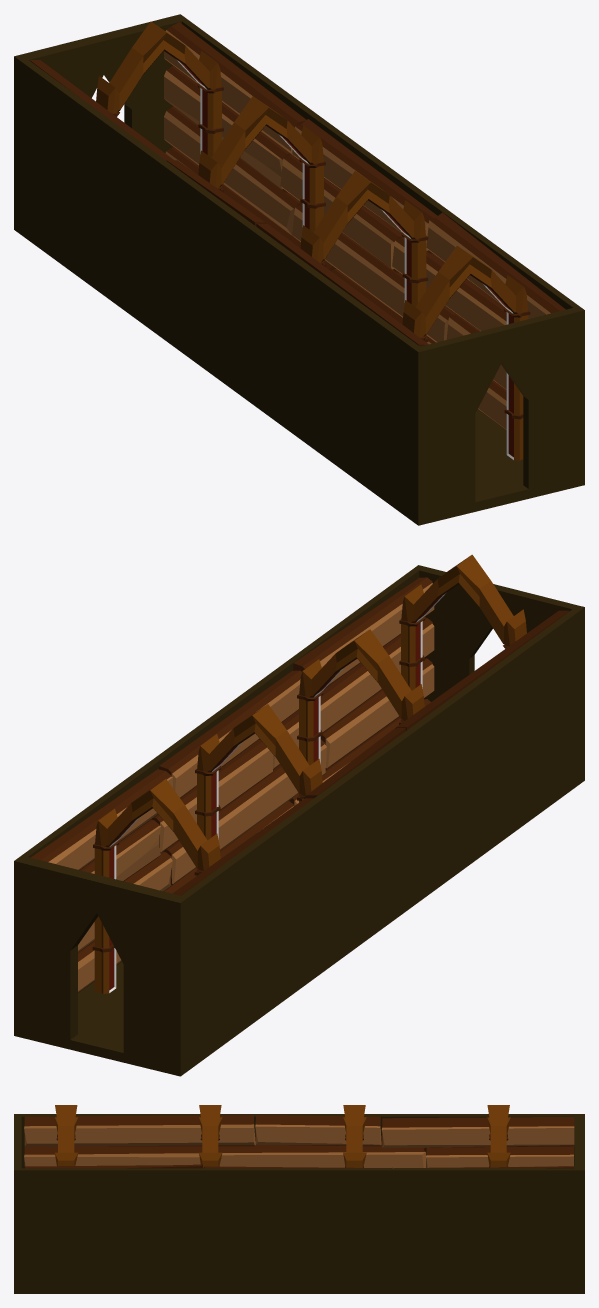
The model's file is 1Way.fbx.
3 views of the same model, one above another, from view 1: azimuth 30°, elevation 25°; view 2: azimuth 150°, elevation 25°; view 3: azimuth 270°, elevation 25° (orthographic). The views are drawn at different scales.
Visible parts, largest first — view 1: Cube.002, Cube.004, Cube.001, Cube.003; view 2: Cube.002, Cube.004, Cube.001, Cube.003; view 3: Cube.002, Cube.003, Cube.001, Cube.004.
Boxes of the visible parts, box(x1,y1,x2,y2) form: Cube.002: box(14, 14, 584, 525); Cube.004: box(164, 22, 565, 430); Cube.001: box(96, 21, 530, 460); Cube.003: box(29, 60, 428, 346); Cube.002: box(14, 565, 584, 1076); Cube.004: box(31, 577, 434, 992); Cube.001: box(92, 554, 526, 993); Cube.003: box(173, 610, 569, 895); Cube.002: box(14, 1114, 584, 1293); Cube.003: box(24, 1115, 574, 1168); Cube.001: box(55, 1105, 510, 1168); Cube.004: box(24, 1164, 574, 1168).
Size of the model in its own units: 791 by 1030 by 3325.
